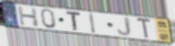0: (40, 9, 57, 30)
H: (17, 6, 41, 28)
I: (88, 12, 98, 35)
J: (116, 17, 132, 37)
T: (65, 10, 82, 32), (136, 17, 152, 40)
